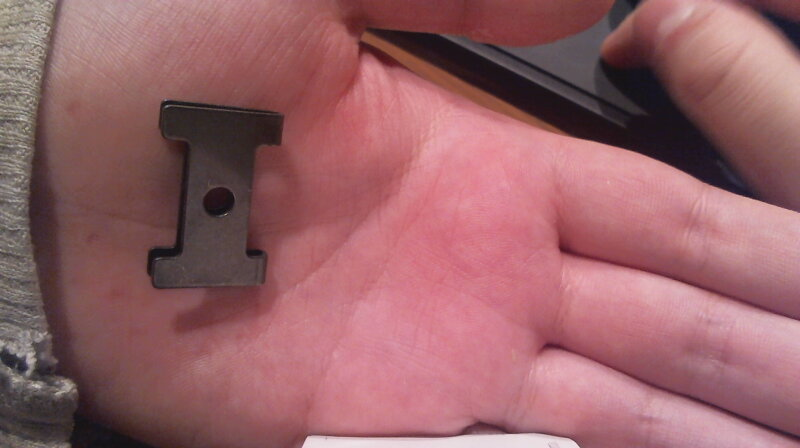O002: (145, 96, 284, 292)
